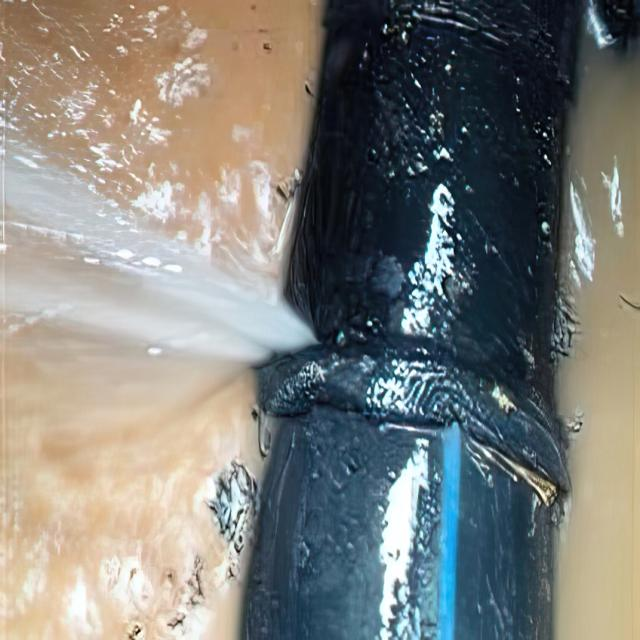leak: (0, 117, 327, 370)
